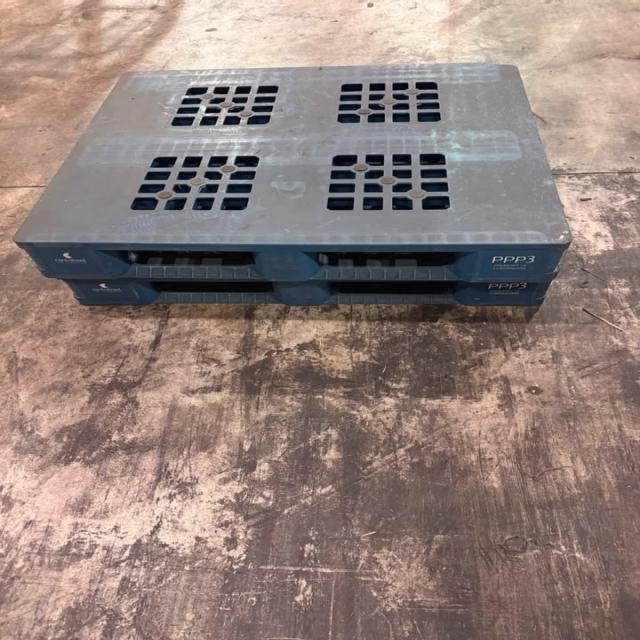non-igps: (9, 59, 580, 310)
